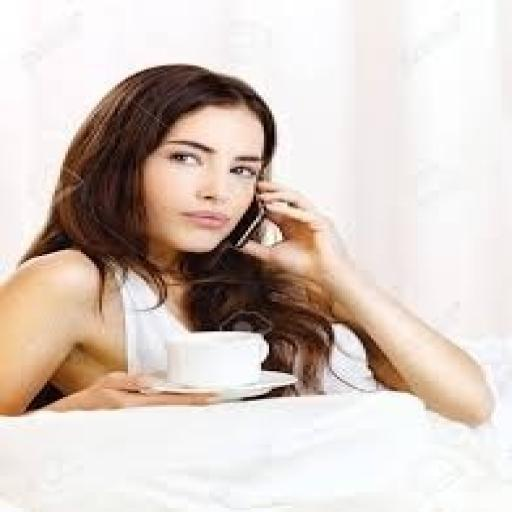calling: (0, 62, 499, 430)
